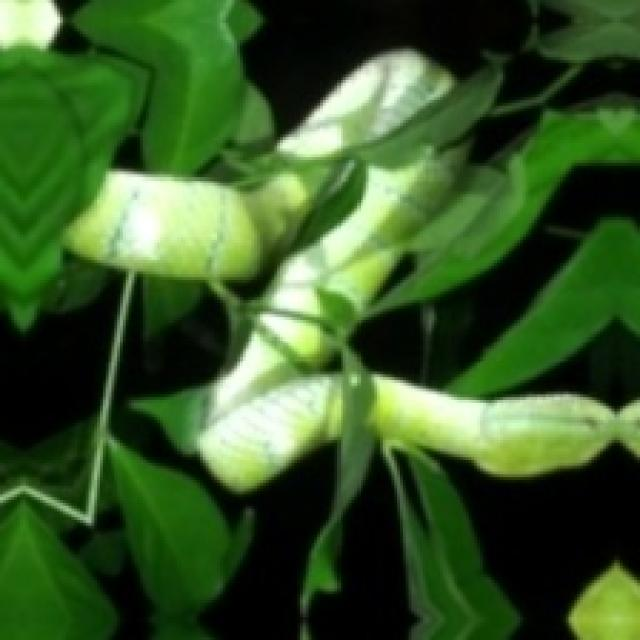north ph temple pitviper: (63, 49, 637, 489)
